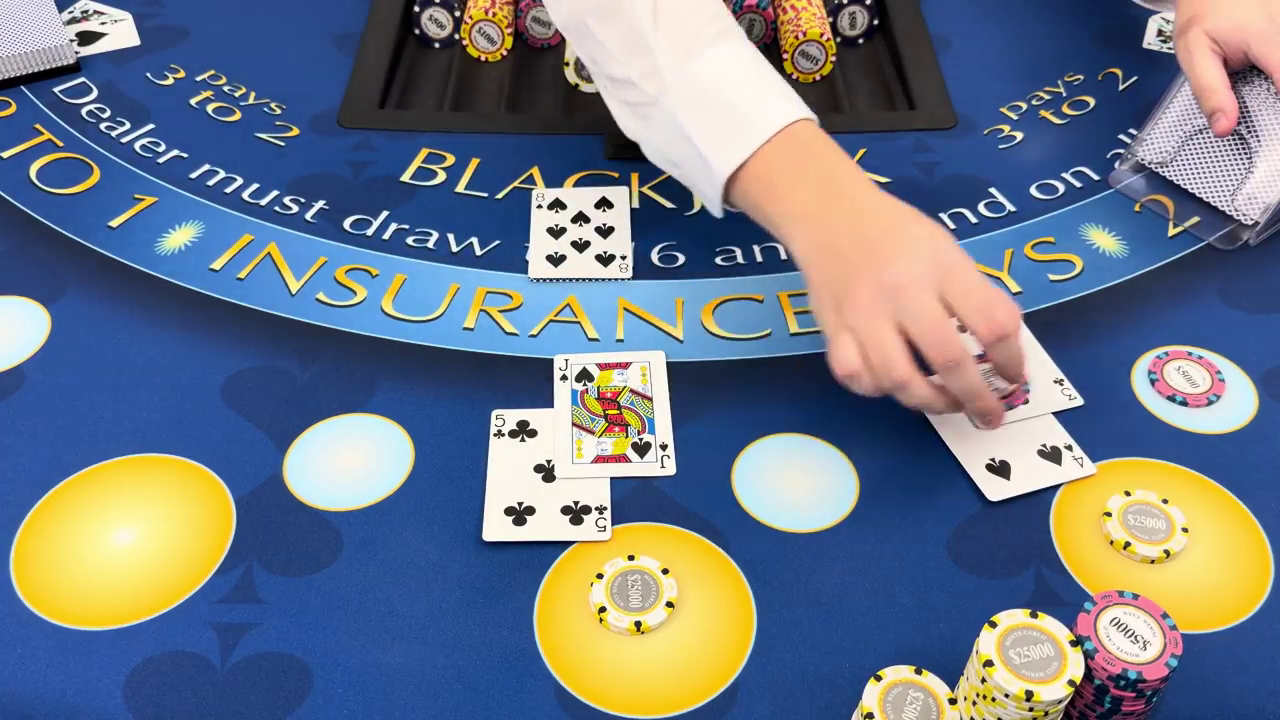3C: (1050, 372, 1081, 408)
4S: (1062, 439, 1087, 475)
5C: (593, 499, 614, 535), (492, 409, 511, 439)
8S: (531, 185, 549, 214), (614, 251, 633, 278)
JS: (657, 441, 677, 474), (555, 355, 573, 387)
